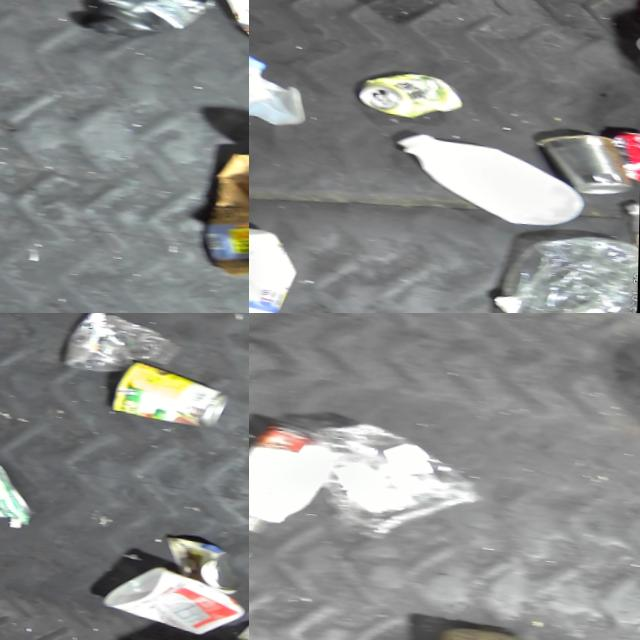can: (108, 351, 235, 426), (530, 115, 640, 191), (355, 56, 470, 119), (157, 526, 249, 592), (0, 448, 46, 527), (607, 115, 640, 174)
milk_jug: (388, 122, 592, 225)
non_white_jug: (80, 0, 216, 44)
plastic_bottle: (483, 211, 640, 313), (616, 186, 640, 253)
